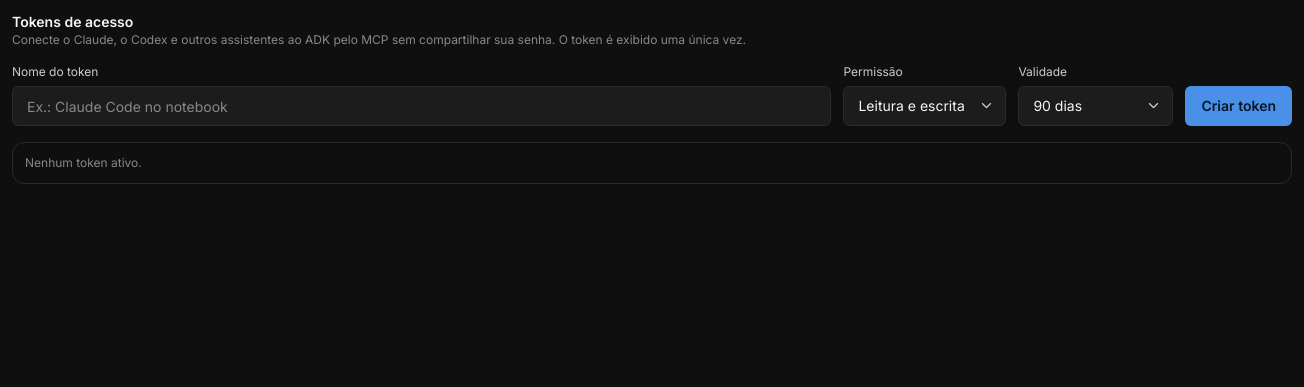
Test: AccessTokensPanel › creates a token, shows the secret once and copies it
Check: the list item "Nenhum token ativo." is shown, box [25,155,142,170]
Click the button with test id "create-token". click: click(1239, 106)
box: [1185,86,1292,126]
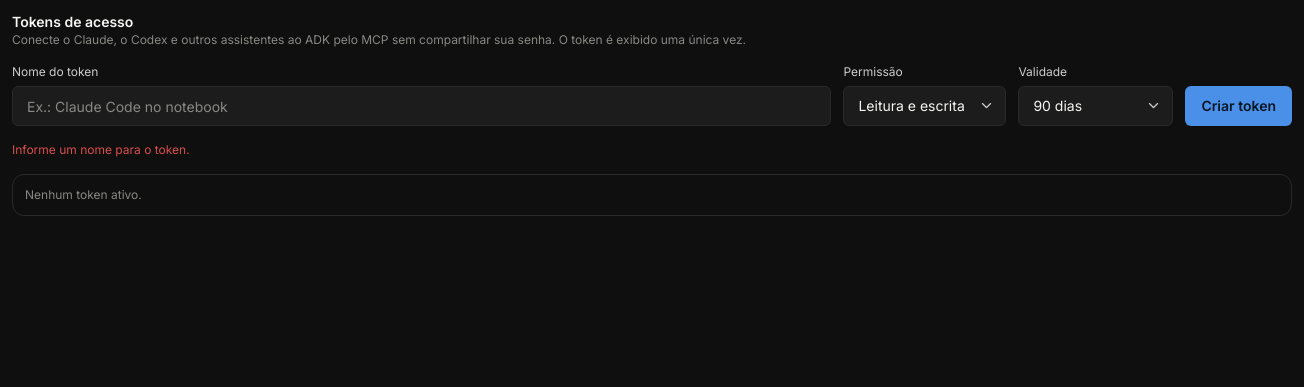
Check: the message reads "Informe um nome para o token.", box [12,142,190,157]
Type " Claude Code " into the field with test id "token-name-input". click: (422, 106)
box: [12,86,831,126]
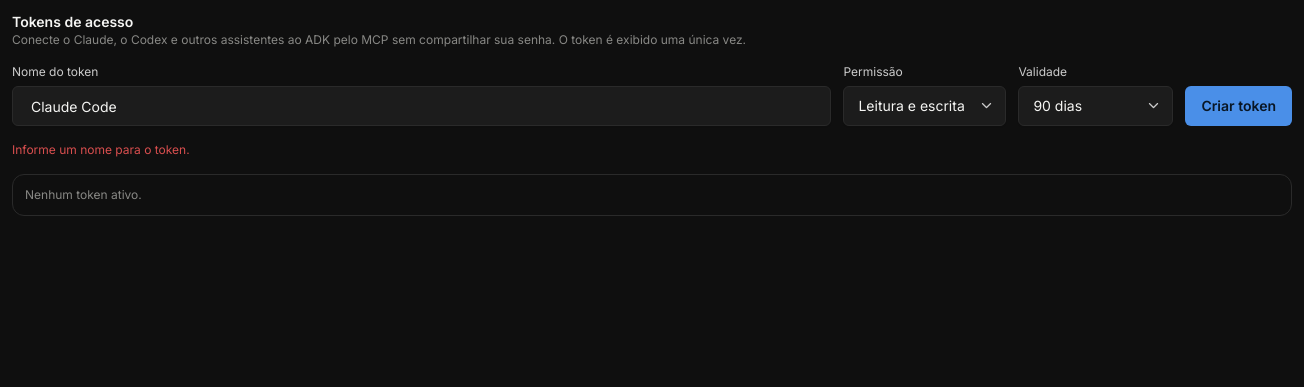
Select "Somente leitura" in the dropdown with test id "token-scope-select". click: (925, 106)
box: [843,86,1006,126]
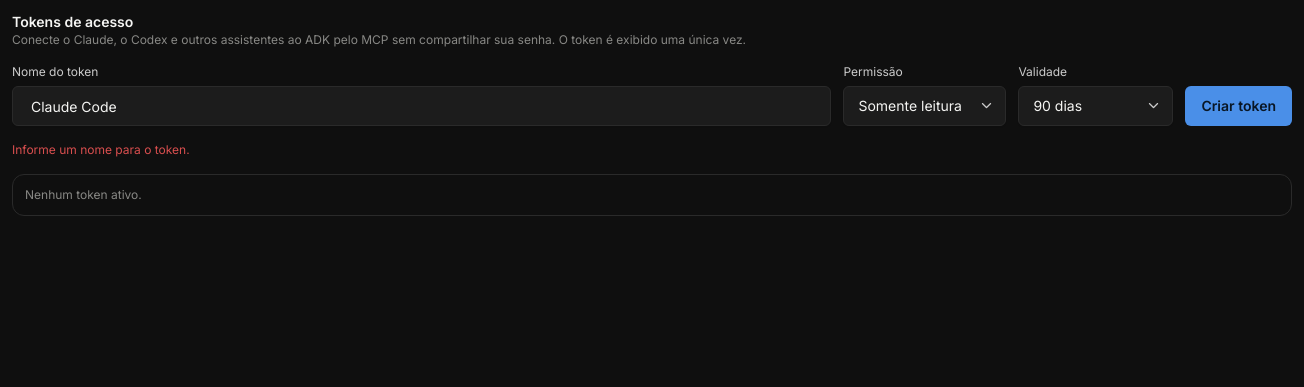
Select "Sem expiração" in the dropdown with test id "token-expiry-select". click: (1096, 106)
box: [1018,86,1173,126]
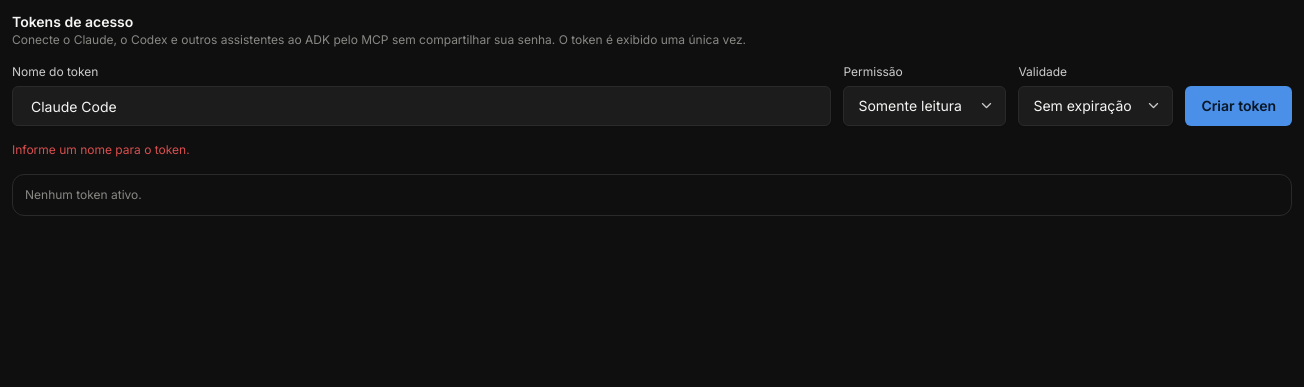
Click the button with test id "create-token". click: click(1239, 106)
box: [1185,86,1292,126]
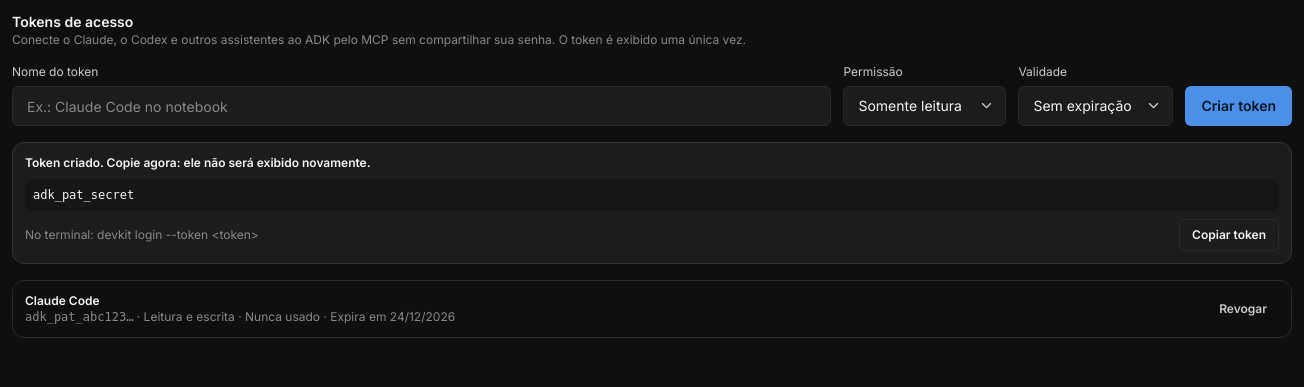
Check: the message with test id "created-token" shows "adk_pat_secret", box [33,188,134,202]
Check: the text "Claude Code" is shown, box [25,293,100,308]
Click the button "Copiar token". click: click(1229, 235)
box: [1179,219,1279,251]
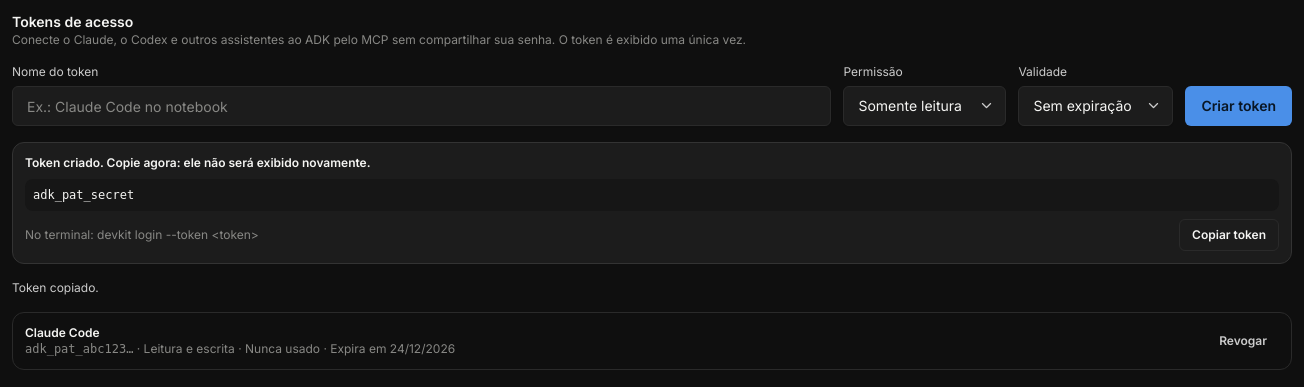
Check: the text "Token copiado." is shown, box [12,280,99,295]
